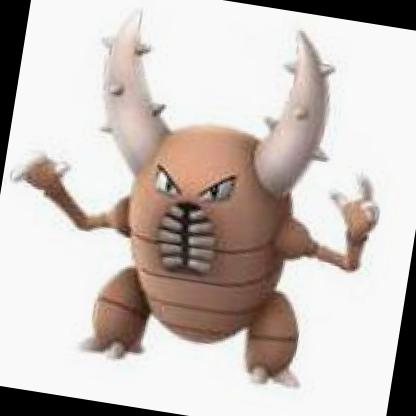Pinsir: (6, 0, 415, 415)
